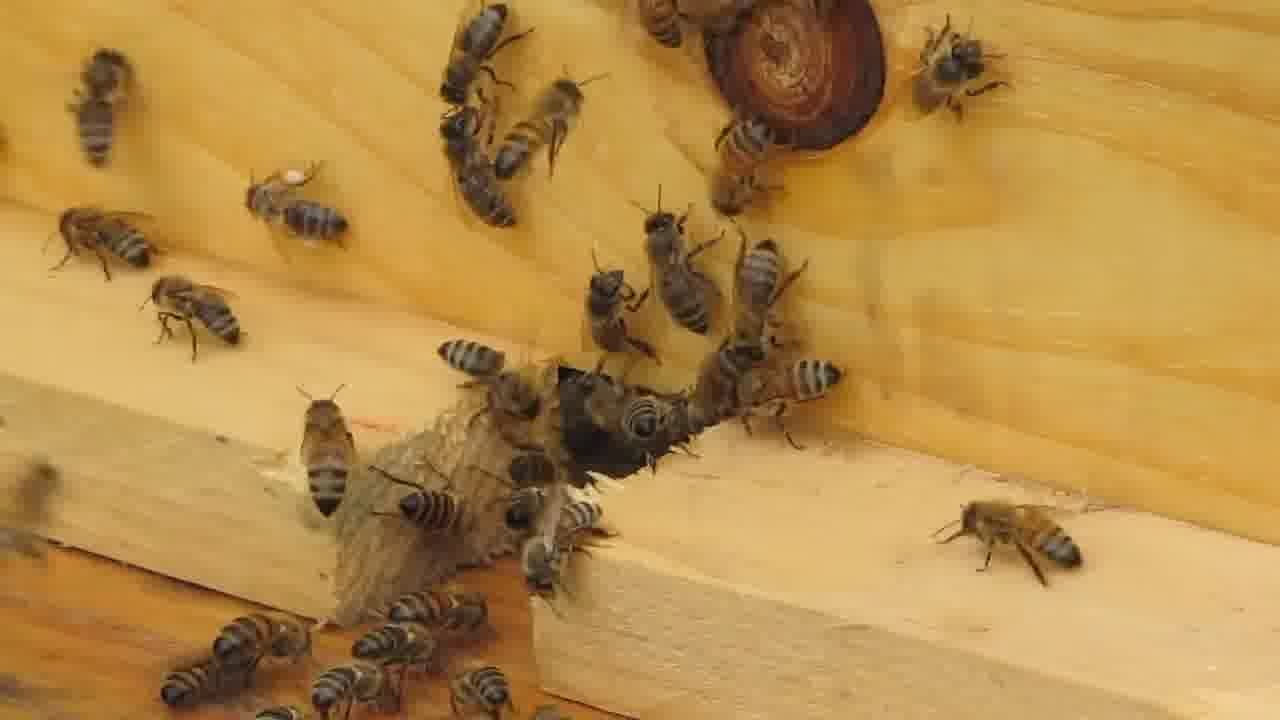pollen: (243, 160, 353, 263)
